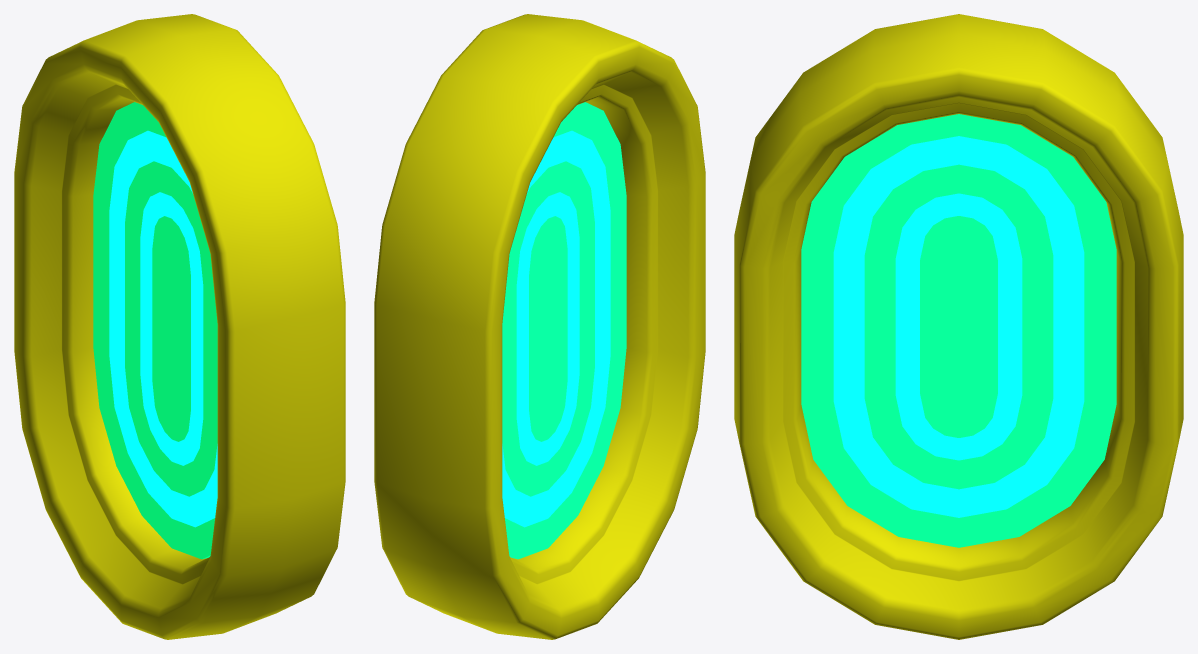
Rendered from Teleport.fbx.
3 renders of one model, left to right at view 1: azimuth 30°, elevation 25°; view 2: azimuth 150°, elevation 25°; view 3: azimuth 270°, elevation 25°, orthographic.
Parts seen in each view (by area): view 1: TeleportFrame, Teleport; view 2: TeleportFrame, Teleport; view 3: TeleportFrame, Teleport.
Boxes of the visible parts, bbox=[...] form: TeleportFrame: bbox=[14, 14, 345, 639]; Teleport: bbox=[93, 102, 217, 559]; TeleportFrame: bbox=[374, 14, 705, 639]; Teleport: bbox=[502, 102, 626, 559]; TeleportFrame: bbox=[734, 14, 1183, 639]; Teleport: bbox=[801, 114, 1116, 547].
Size of the model in its own units: 71.65 by 338 by 235.
